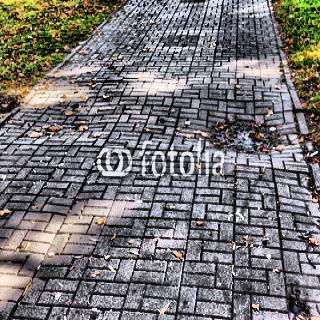pothole: (205, 99, 287, 164)
